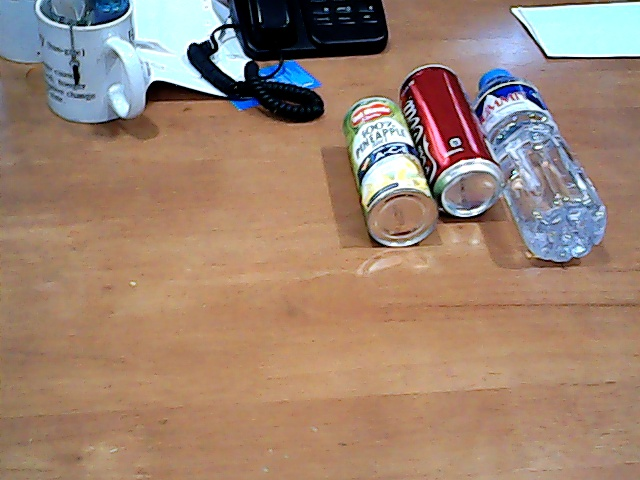Cola: (406, 56, 490, 209)
Pine Juice: (346, 88, 435, 245)
Summit Water: (475, 50, 609, 261)
